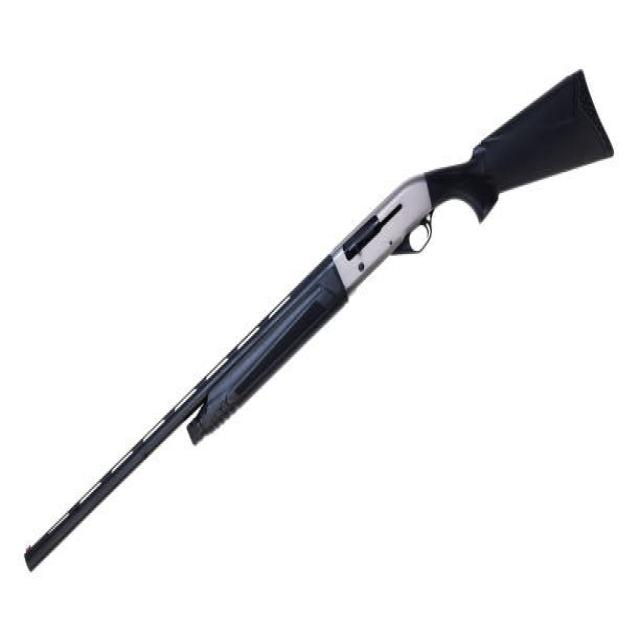rifle: (26, 64, 619, 582)
